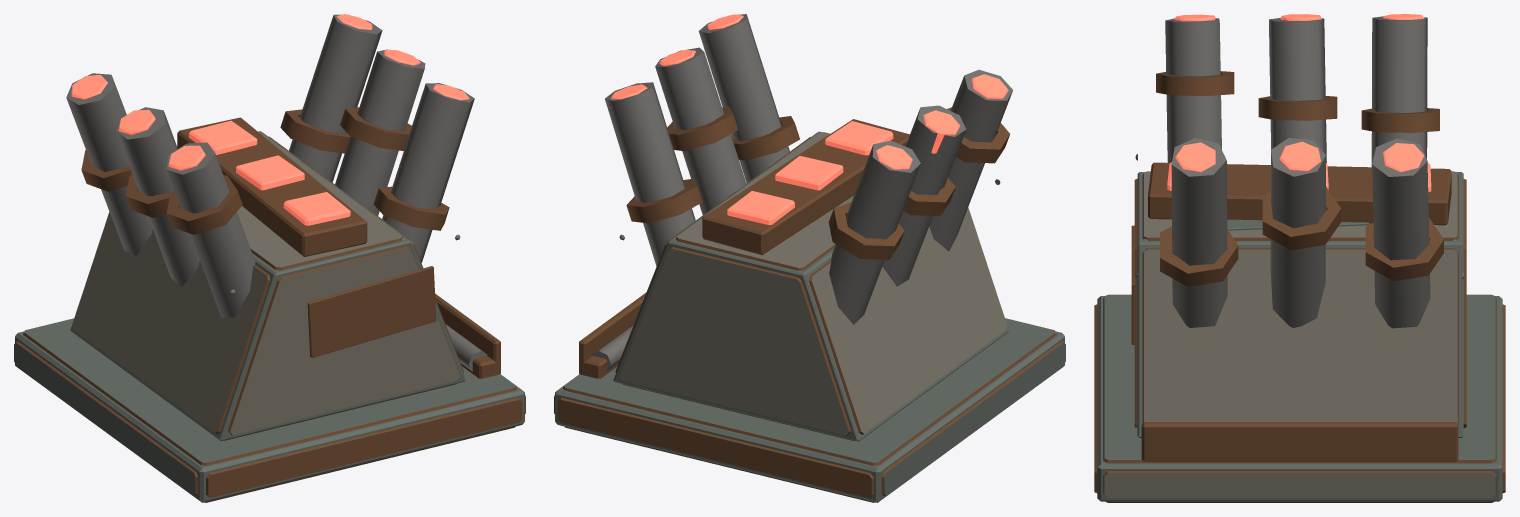
File: R4X_Overdrive.fbx
The picture shows the model from 3 angles, left to right: view 1: azimuth 30°, elevation 25°; view 2: azimuth 150°, elevation 25°; view 3: azimuth 270°, elevation 25°; orthographic projection. The views are drawn at different scales.
Parts seen in each view (by area): view 1: R4X_Overdrive_Body; view 2: R4X_Overdrive_Body; view 3: R4X_Overdrive_Body.
Part boxes in pixels (x1,y1,x2,y2): R4X_Overdrive_Body: (14, 14, 525, 502); R4X_Overdrive_Body: (554, 14, 1065, 502); R4X_Overdrive_Body: (1094, 14, 1505, 502).
Size of the model in its own units: 0.52 by 0.476 by 0.52.
